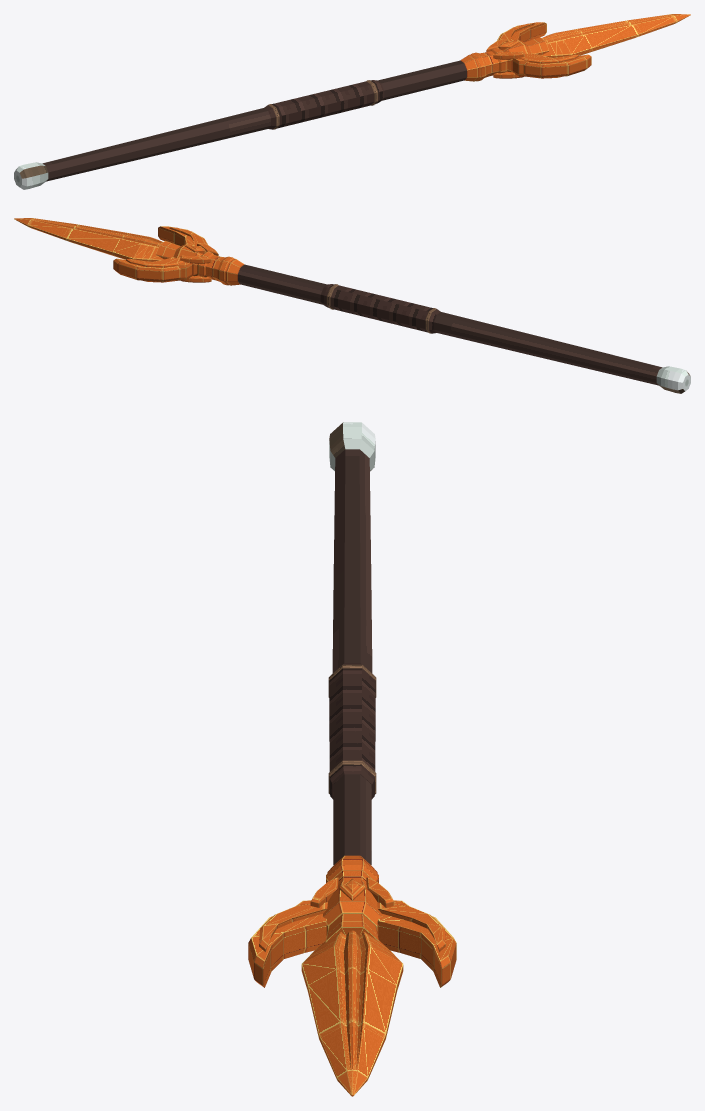
File: bench_zhuji_baiqing_lingyun_spear_5_hot.obj
The picture shows the model from 3 angles, top to bottom: view 1: azimuth 30°, elevation 25°; view 2: azimuth 150°, elevation 25°; view 3: azimuth 270°, elevation 25°; orthographic projection. The views are drawn at different scales.
Parts seen in each view (by area): view 1: geometry; view 2: geometry; view 3: geometry.
Boxes of the visible parts, <box> form: geometry: <box>14,14,690,189</box>; geometry: <box>14,218,690,393</box>; geometry: <box>248,422,456,1096</box>.
Size of the model in its own units: 0.75 by 0.0352 by 0.1005.
